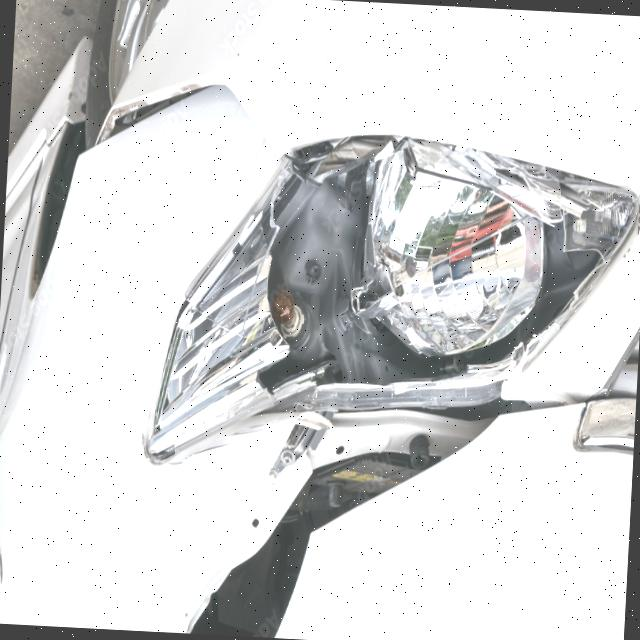Head Light: (168, 112, 602, 447)
